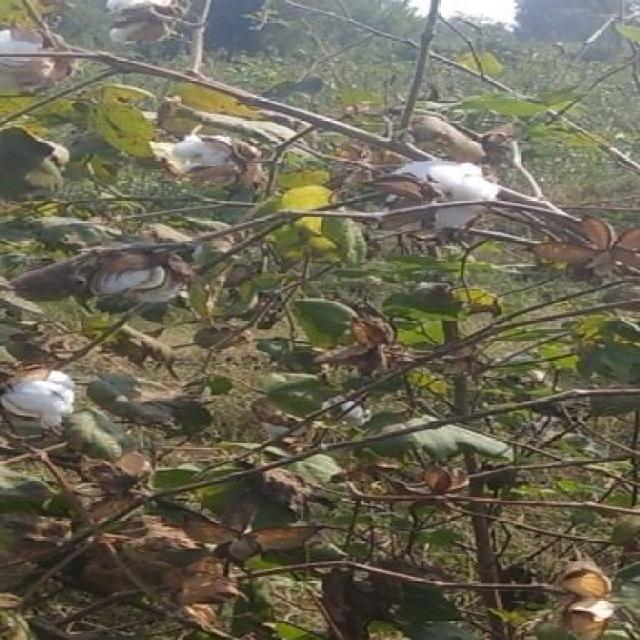cotton_ready: (384, 153, 516, 232), (1, 356, 90, 436)
